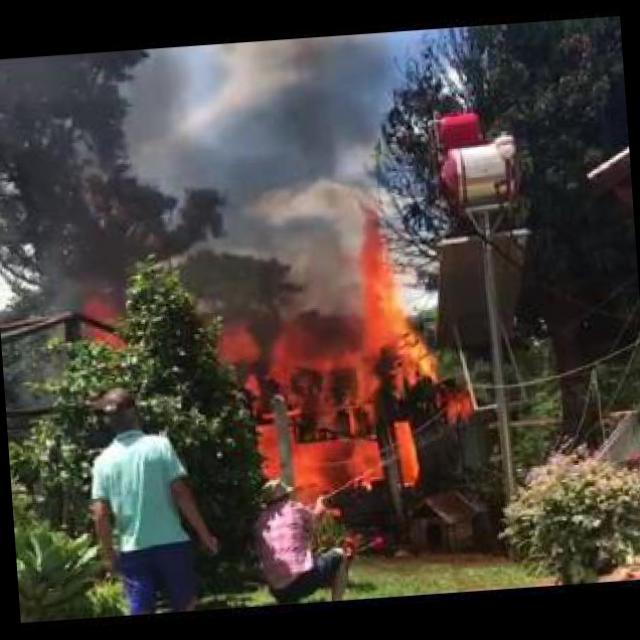fire: (202, 201, 470, 491), (84, 294, 128, 342)
